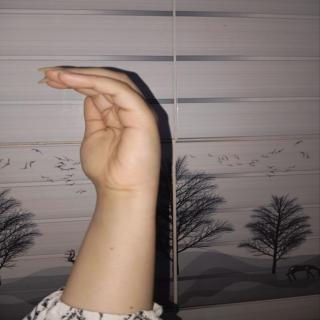HAA: (32, 52, 196, 216)
